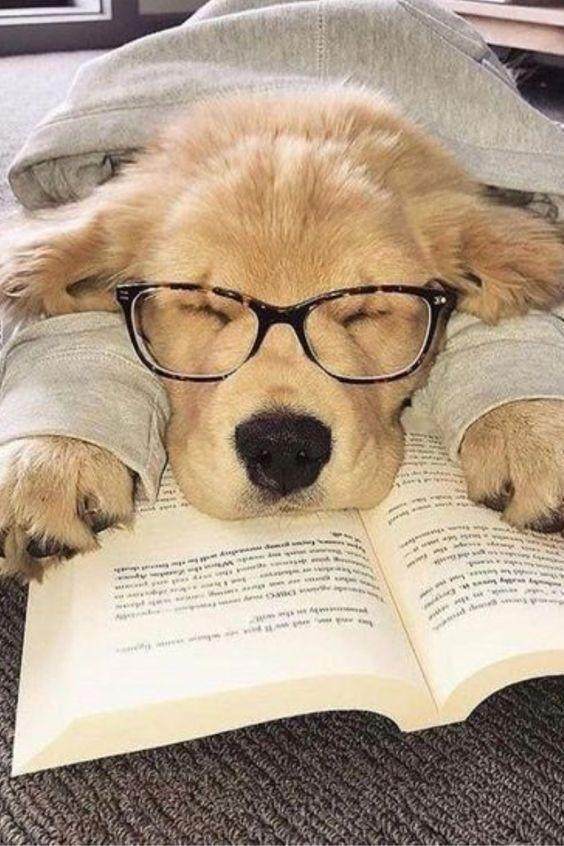puppy-dog: (0, 79, 564, 575)
